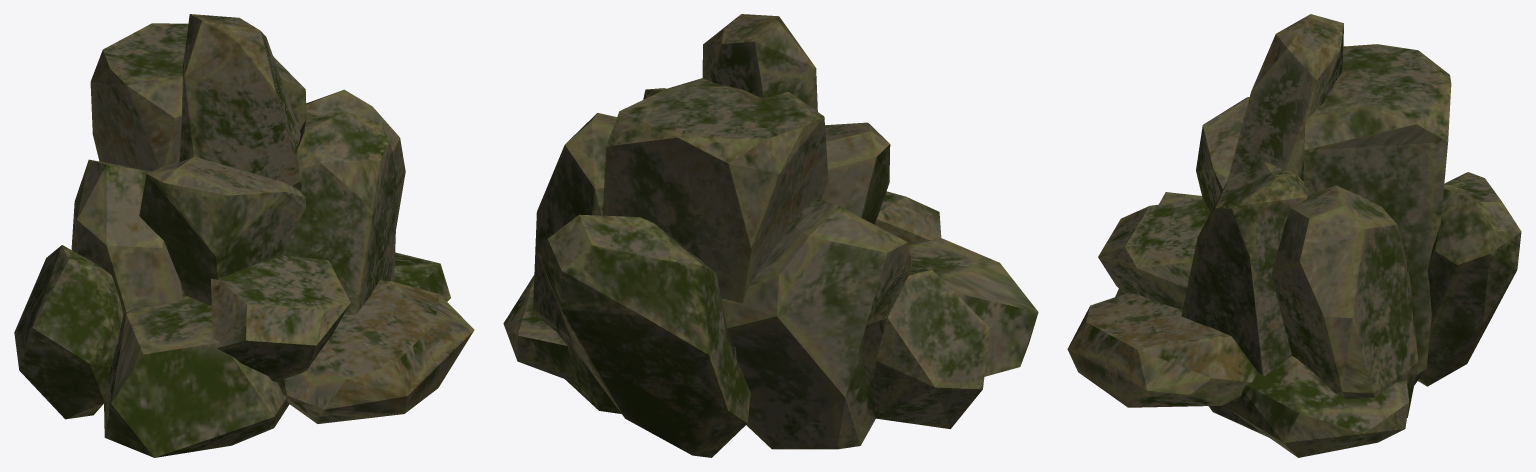
The model's file is mossy rocks4.fbx.
The picture shows the model from 3 angles, left to right: view 1: azimuth 30°, elevation 25°; view 2: azimuth 150°, elevation 25°; view 3: azimuth 270°, elevation 25°; orthographic projection. The views are drawn at different scales.
Visible parts, largest first — view 1: Mossy_Rock_Group2_M_Mossy_Rock_0; view 2: Mossy_Rock_Group2_M_Mossy_Rock_0; view 3: Mossy_Rock_Group2_M_Mossy_Rock_0.
Boxes of the visible parts, bbox=[...] form: Mossy_Rock_Group2_M_Mossy_Rock_0: bbox=[14, 14, 474, 457]; Mossy_Rock_Group2_M_Mossy_Rock_0: bbox=[503, 14, 1038, 457]; Mossy_Rock_Group2_M_Mossy_Rock_0: bbox=[1067, 14, 1521, 457].
Bounding box in the file's own units: 154 × 131 × 147.
Materials: 1 (1 with a texture image).
